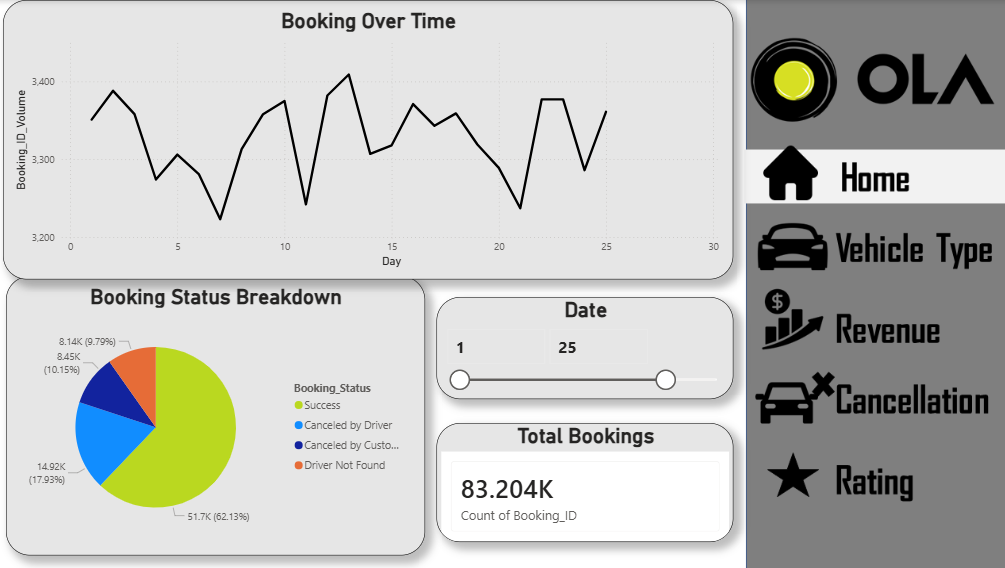

What the dashboard file says about the page in this screenshot:
{"tool":"powerbi","page":{"name":"Home","canvas":[1280,720],"ordinal":0},"visuals":[{"type":"actionButton","box":[951.2,260.9,329.3,87.5],"z":0},{"type":"actionButton","box":[951.2,566.3,329.3,79.5],"z":1000},{"type":"actionButton","box":[951.2,461.3,329.3,82.7],"z":2000},{"type":"actionButton","box":[951.2,359.5,329.3,101.8],"z":3000},{"type":"pieChart","title":"Booking Status Breakdown","fields":{"Category":["Bookings.Booking_Status"],"Y":["CountNonNull(Bookings.Booking_Status)"]},"box":[18,348,528,352],"z":4000},{"type":"lineChart","title":"Booking Over  Time","fields":{"Y":["CountNonNull(Bookings.Booking_ID)"],"Category":["Bookings.Date.Variation.Date Hierarchy.Day"]},"box":[16,0,920,352],"z":5000},{"type":"slicer","title":"Date","fields":{"Values":["Bookings.Date.Variation.Date Hierarchy.Day"]},"box":[561.3,374.2,374.2,128.5],"z":6000},{"type":"cardVisual","title":"Total Bookings","fields":{"Data":["CountNonNull(Bookings.Booking_ID)"]},"box":[562,532,374,150],"z":7000}]}

Visuals, with their boxes in screenshot pixels (x1, y1, x2, y2), scaled from the page's 1280x720 canvas onto the 1005x568 screenshot:
actionButton: rect(747, 206, 1004, 275)
actionButton: rect(747, 447, 1004, 509)
actionButton: rect(747, 364, 1004, 429)
actionButton: rect(747, 284, 1004, 364)
"Booking Status Breakdown" pieChart: rect(14, 275, 429, 552)
"Booking Over  Time" lineChart: rect(13, 0, 735, 278)
"Date" slicer: rect(441, 295, 735, 397)
"Total Bookings" cardVisual: rect(441, 420, 735, 538)
